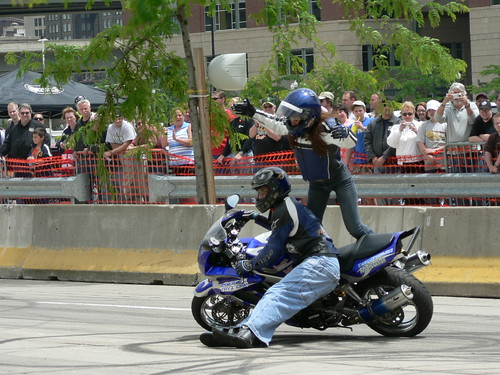helmet: (280, 85, 323, 138), (249, 160, 292, 213)
